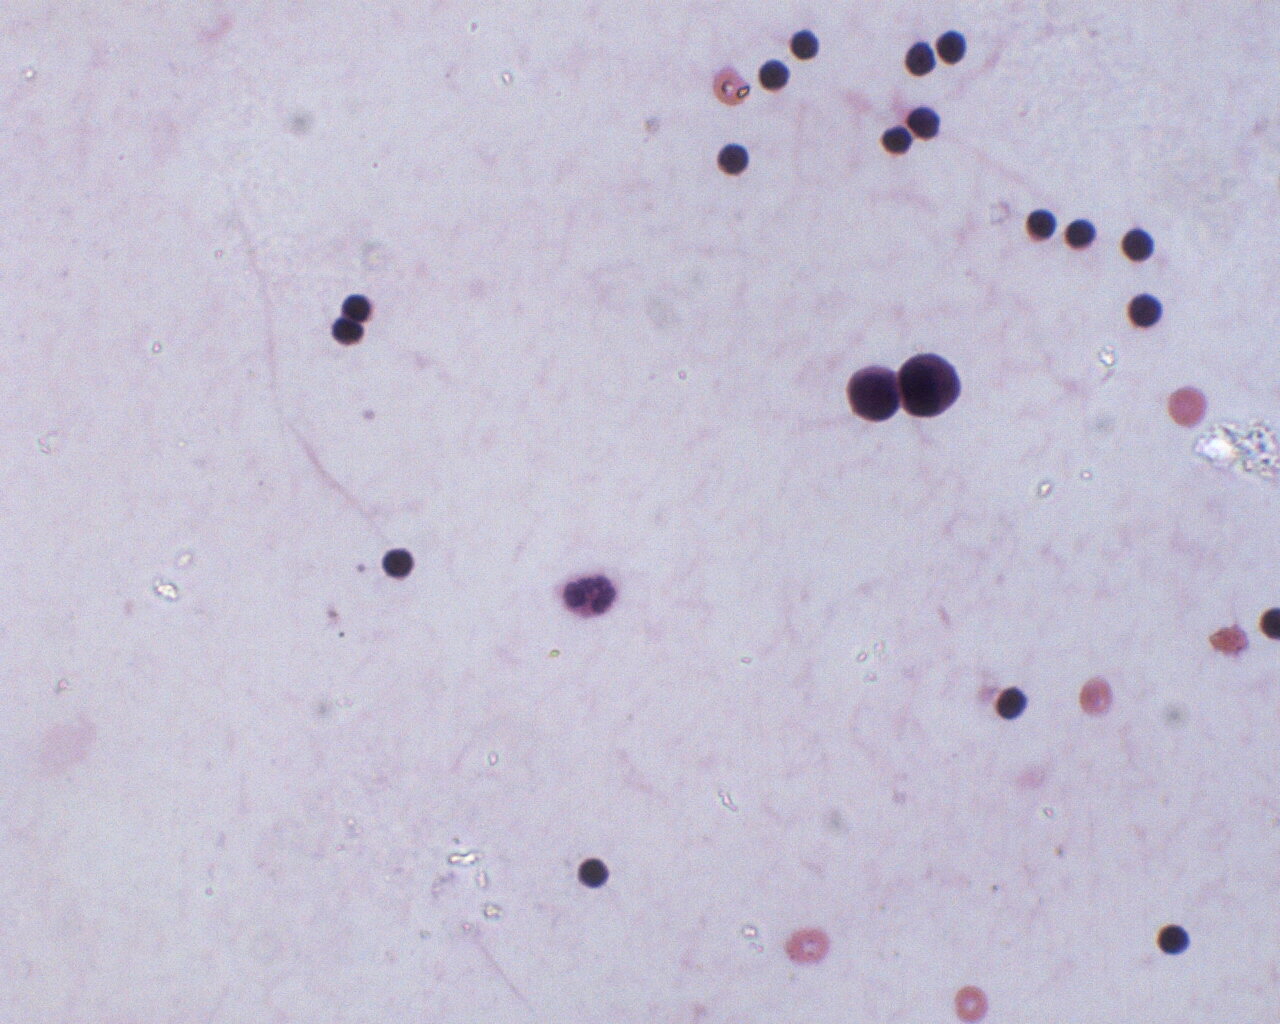ab: (897, 351, 965, 426), (843, 359, 902, 427)
lymph: (1117, 222, 1164, 267), (572, 850, 615, 897), (375, 542, 423, 585), (711, 135, 754, 181), (1119, 289, 1167, 331), (752, 54, 796, 98), (1151, 921, 1197, 960), (900, 37, 939, 80), (1023, 201, 1058, 245), (991, 685, 1032, 722), (328, 312, 367, 348)
